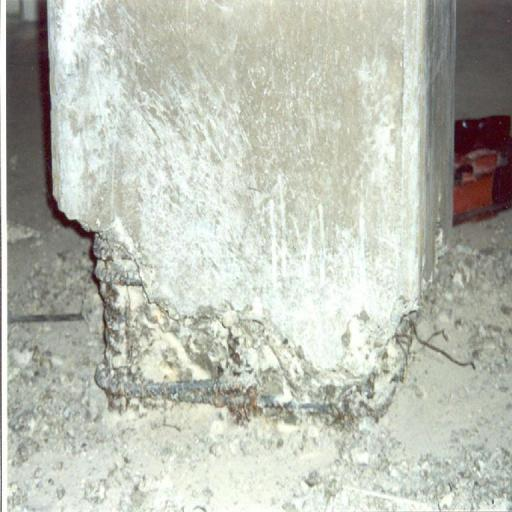spalling: (55, 208, 420, 435)
